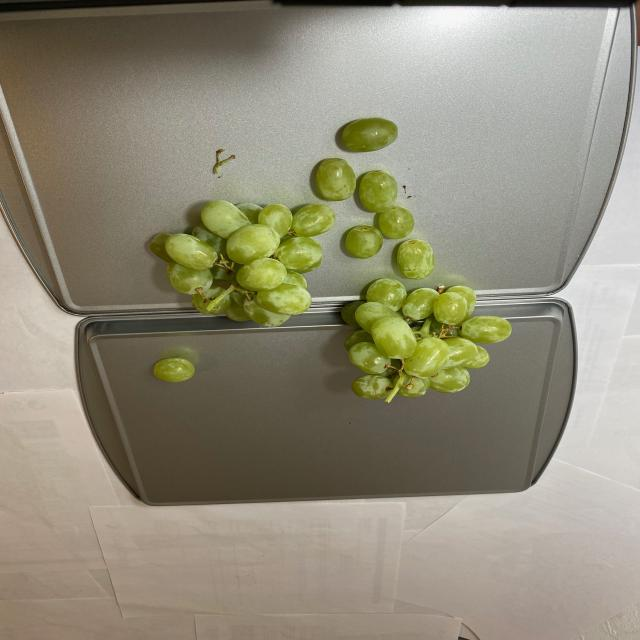Grapes: (147, 112, 509, 402)
